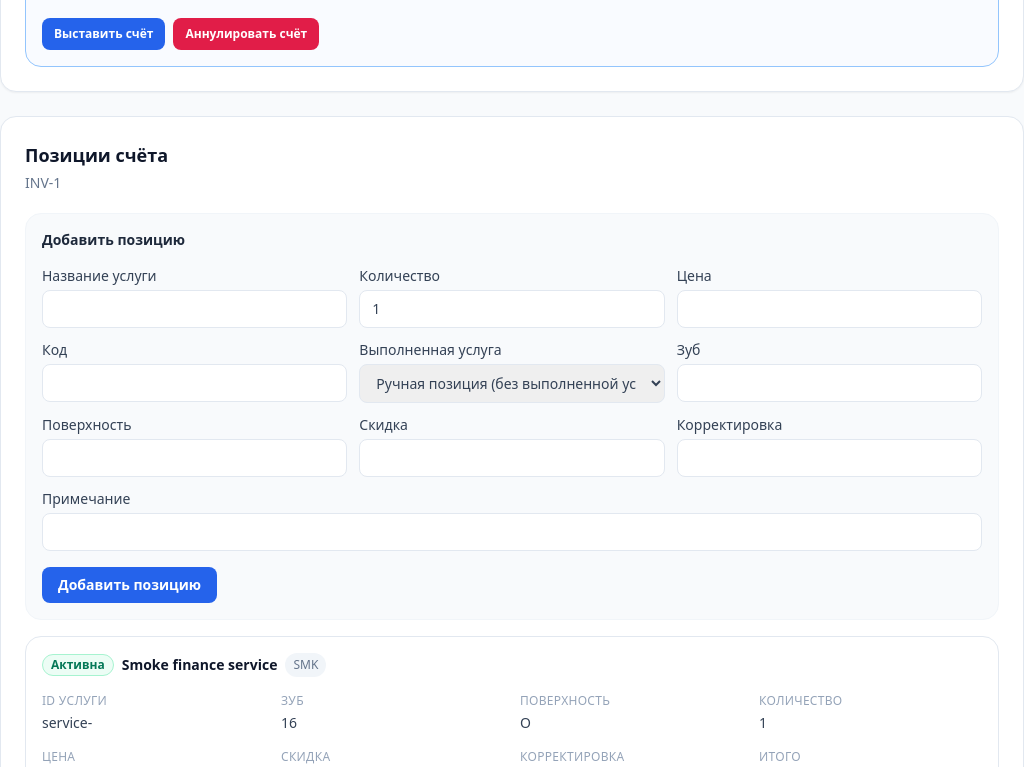
Scenario: PatientFinancePanel › refreshes and displays the safe duplicate message after the backend rejects a selected service
The image size is (1024, 767).
(page scrolled)
Select "Selectable service" in the dropdown with test id "finance-completed-service-select" at (512, 384), box left=359, top=364, right=665, bottom=403
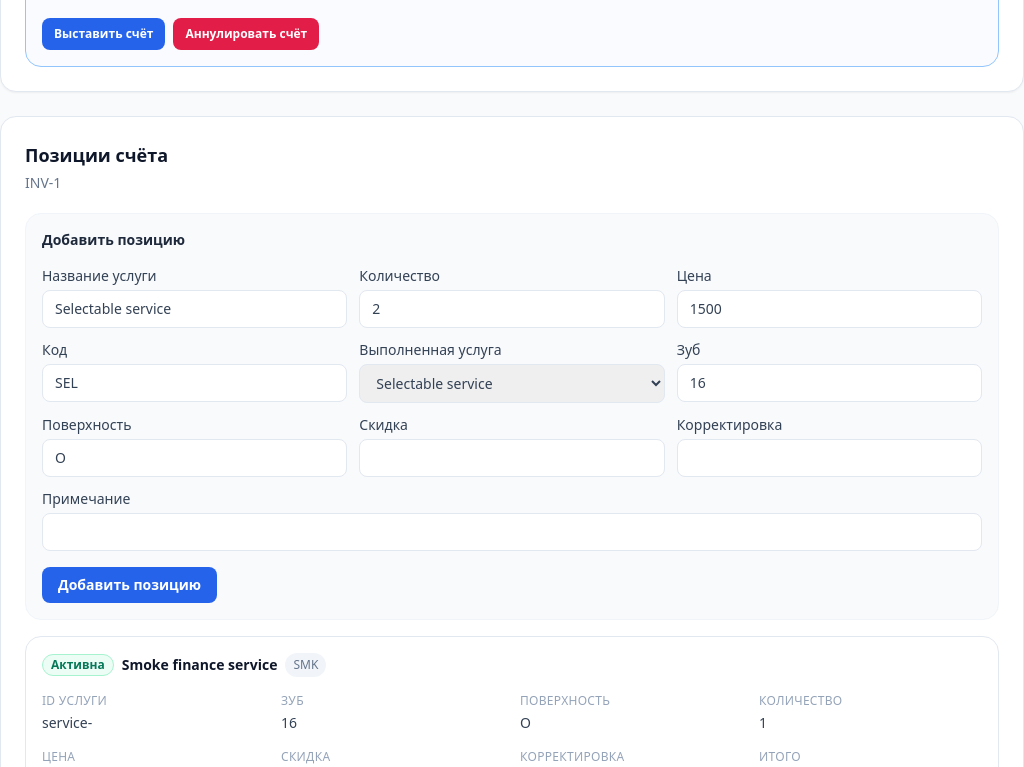
Click the button with test id "finance-add-item-submit" at (130, 585), box left=42, top=567, right=217, bottom=603
(page scrolled)
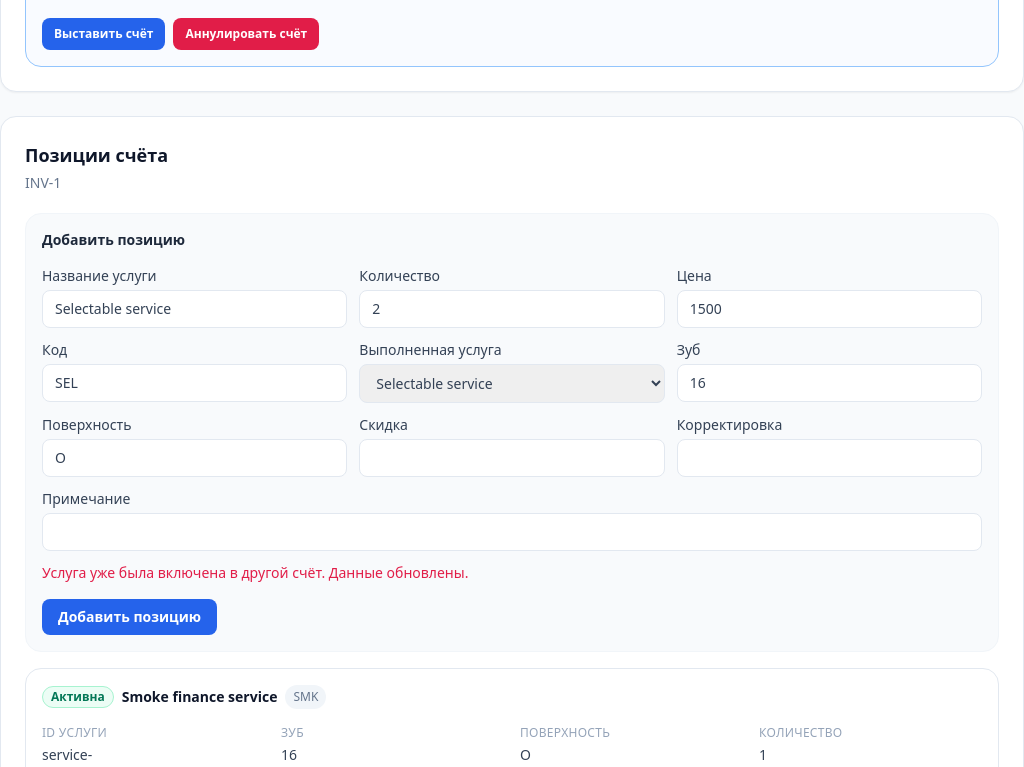
Expected: the text "Услуга уже была включена в другой счёт. Данные обновлены." is shown, left=42, top=563, right=468, bottom=582
